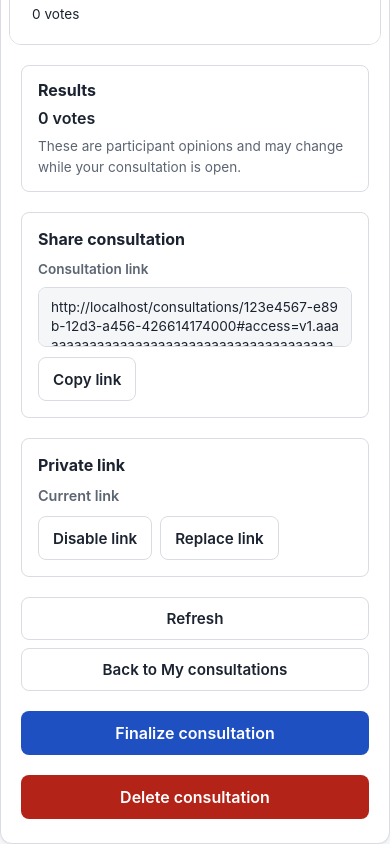
OwnerConsultationDetail › requires a refresh after an uncertain link mutation
The width and height of the screenshot is (390, 844).
(page scrolled)
Expected: the heading "Private link" is shown, [38,455,125,475]
Click the button "Disable link". click: (95, 538)
box: [38,516,152,560]
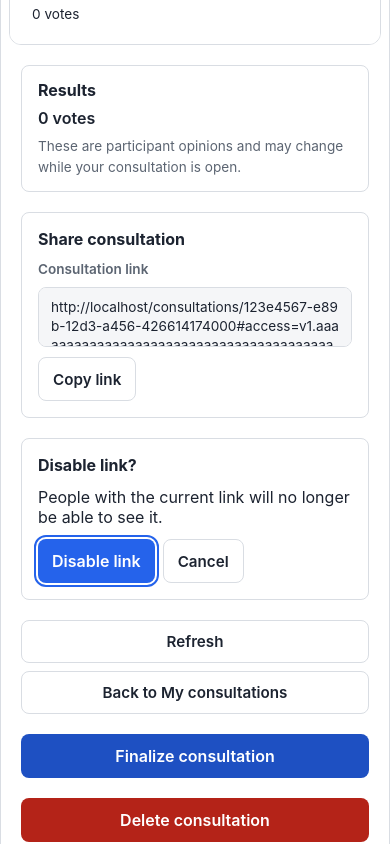
Click the button "Disable link". click: (96, 561)
box: [38,539,155,583]
(page scrolled)
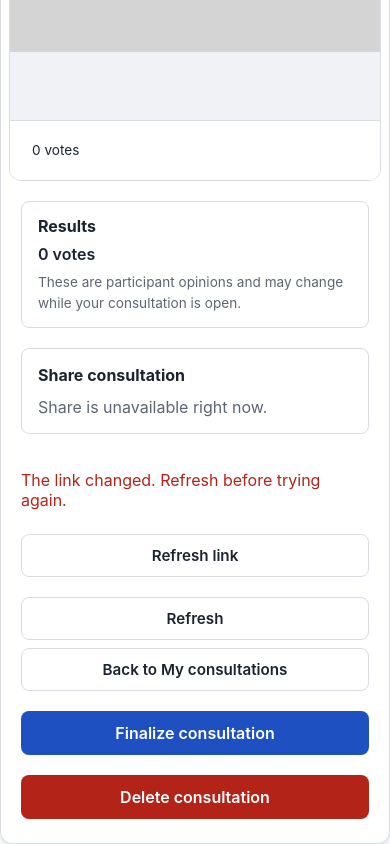
Now the text "The link changed. Refresh before trying again." is shown, box [21,470,369,510]
Now the button "Refresh link" is shown, box [21,534,369,577]
